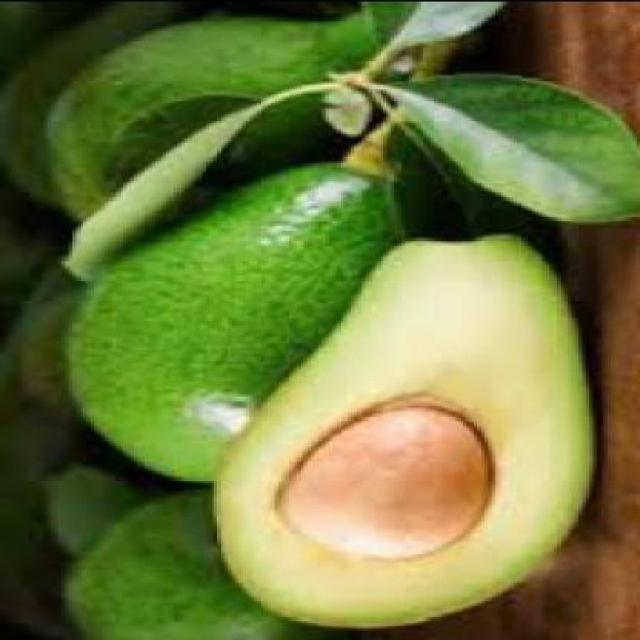BIODEGRADABLE: (202, 235, 586, 631), (65, 122, 441, 484), (36, 2, 409, 227), (57, 489, 341, 638), (376, 74, 636, 224), (3, 3, 185, 215), (61, 98, 268, 277), (278, 402, 488, 556), (368, 3, 502, 74), (11, 277, 75, 415), (39, 466, 138, 554)
